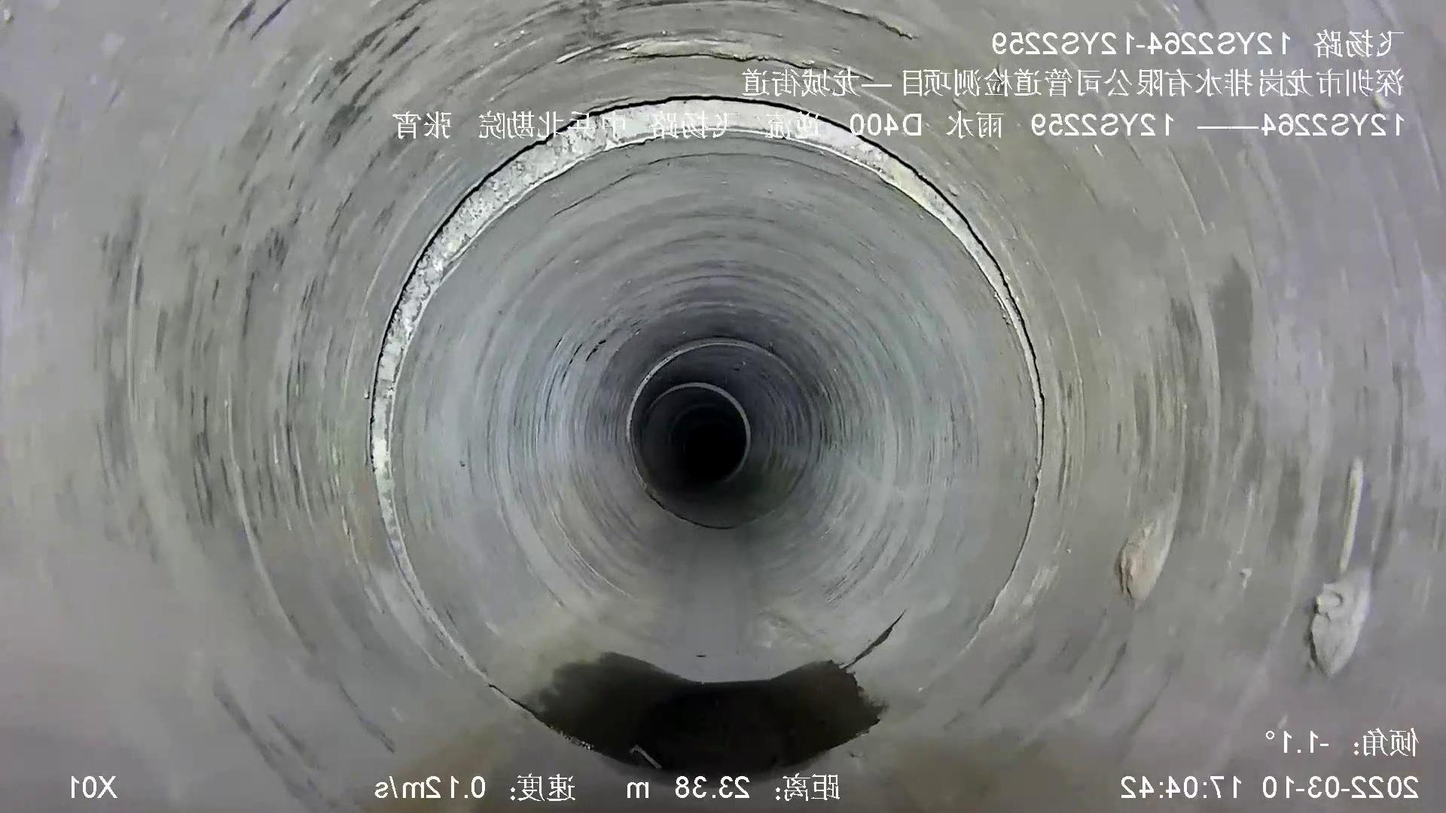CKTJ: (370, 99, 1045, 704), (628, 337, 789, 431), (649, 382, 752, 471)
